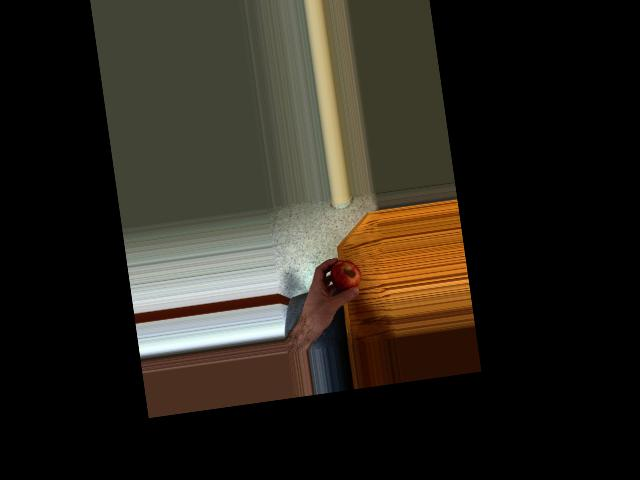apple: (325, 257, 362, 296)
